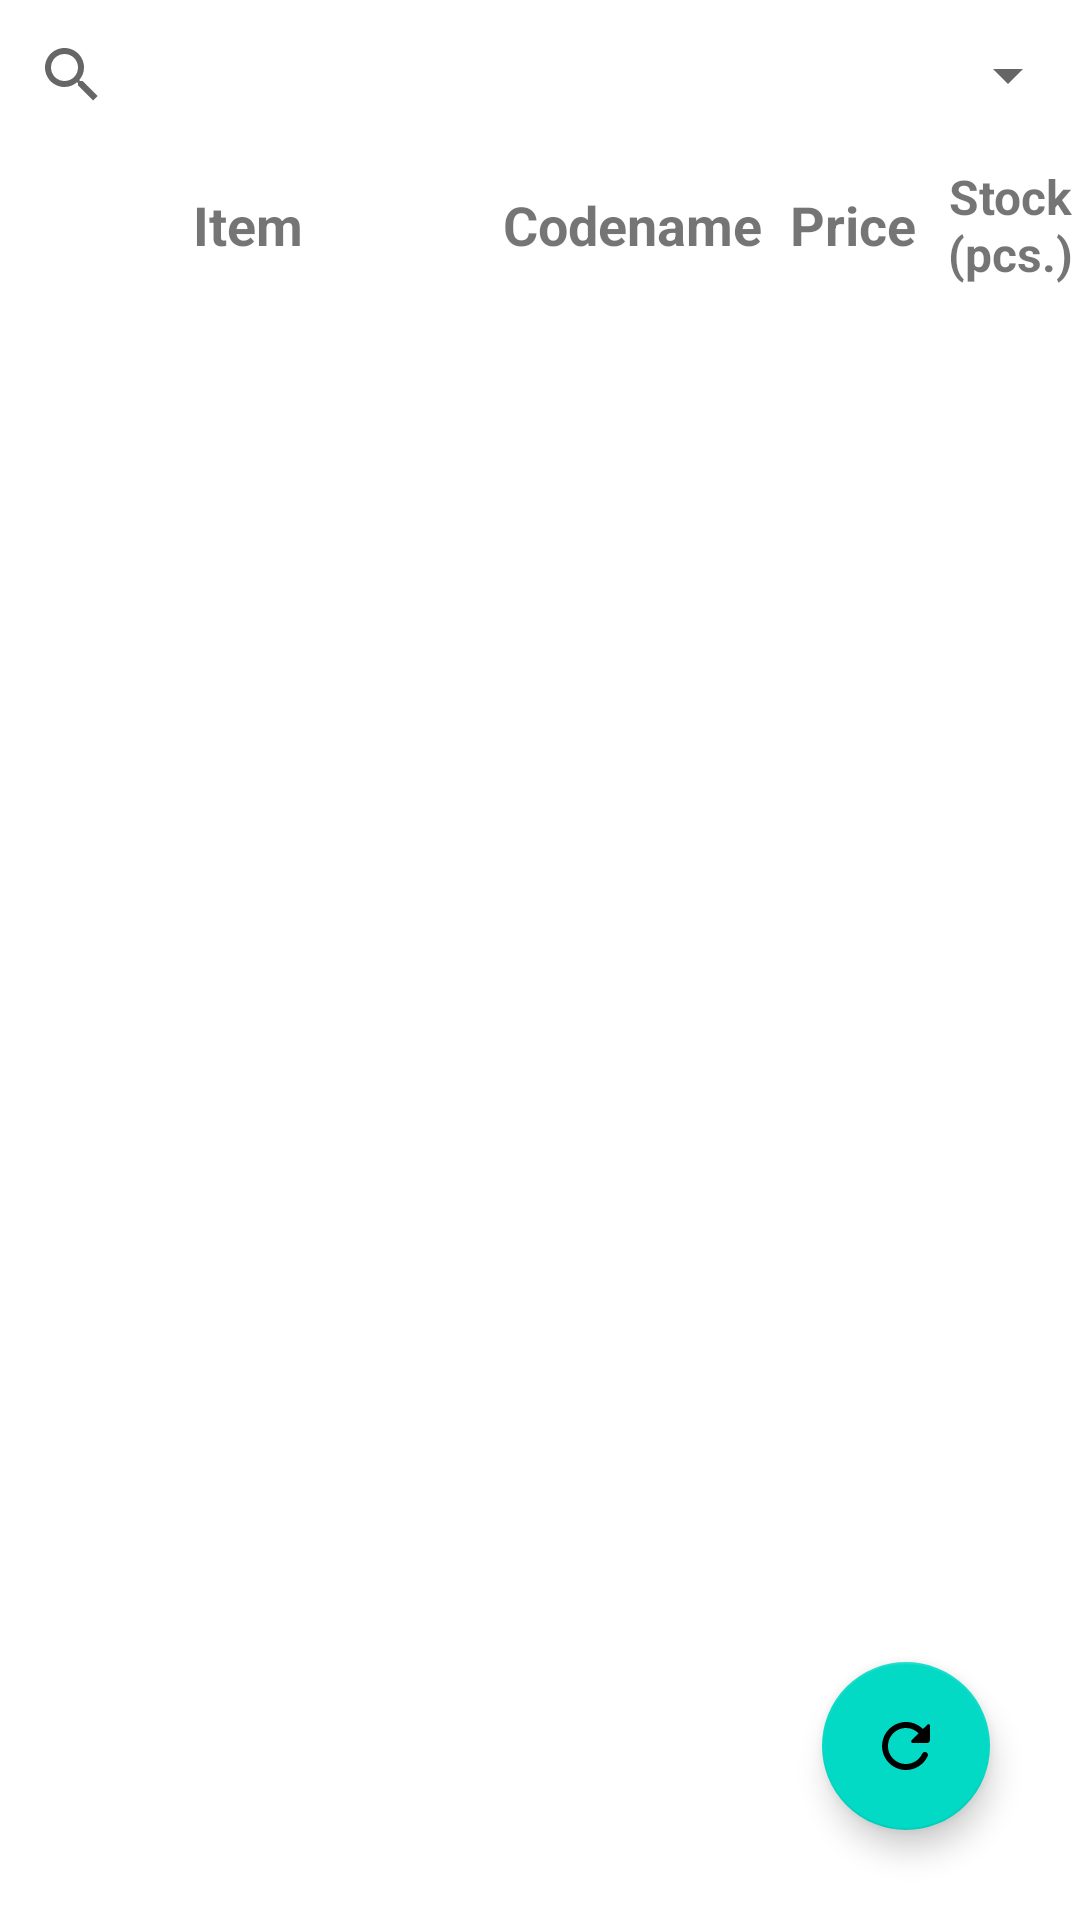

Icon bounding boxes for this 1080px×1920px phone screenshot, format (x1, y1, x2, y2):
refresh: (822, 1662, 990, 1830)
